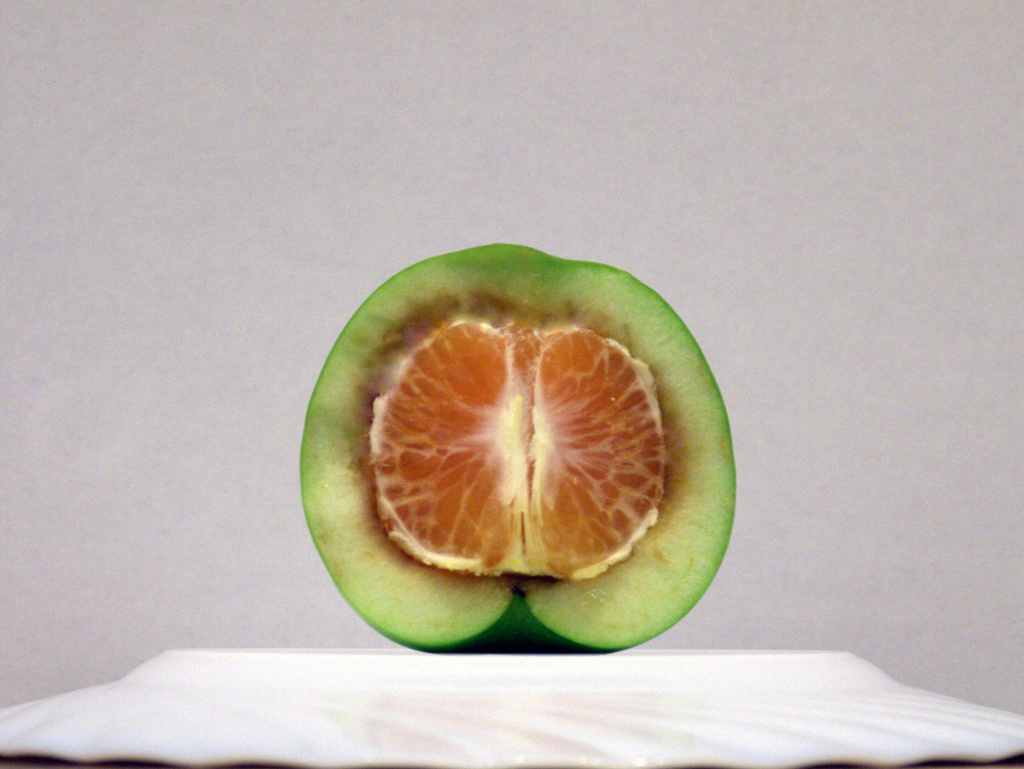Ripe: (378, 311, 657, 580)
